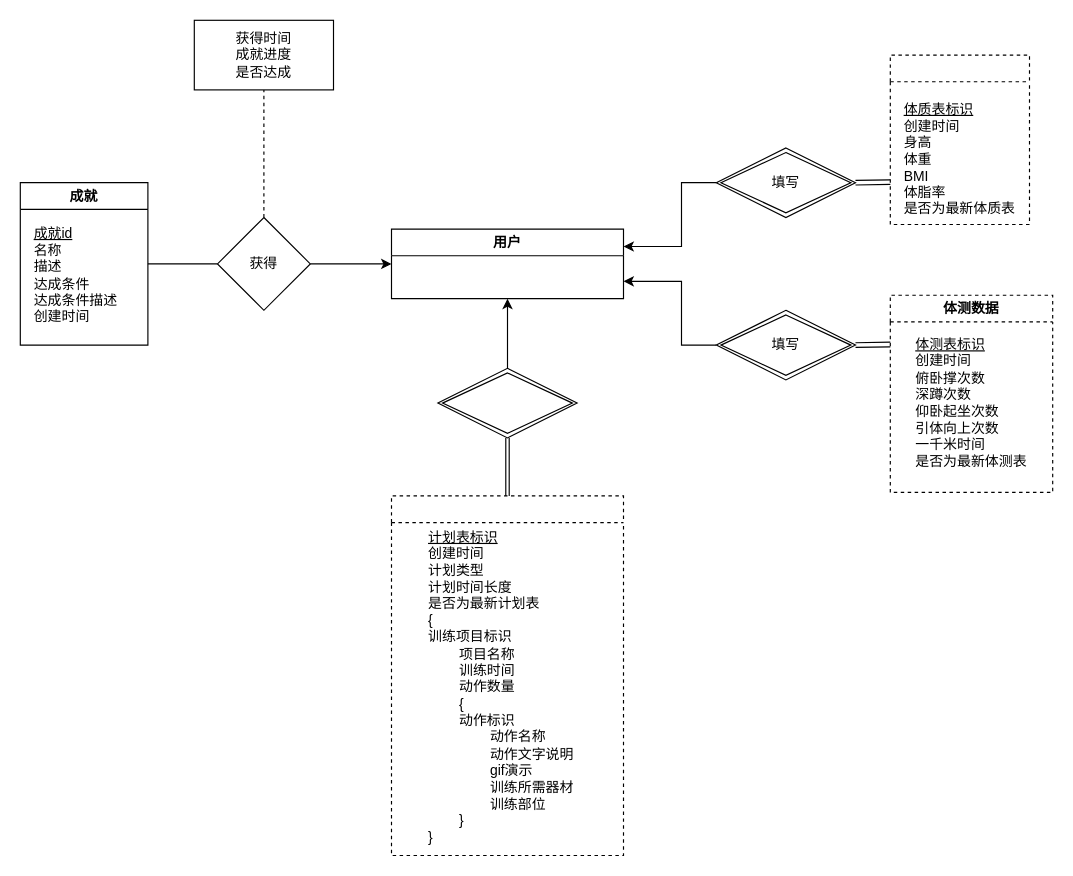
The diagram is 1073 pixels wide and 876 high, and some of its shapes have lost their labels. The box of each missing label's shape, as (x1, y1, x2, y2) in pixels:
体质数据: (889, 54, 1030, 224)
健身计划: (390, 495, 624, 855)
系统生成: (437, 367, 577, 438)
